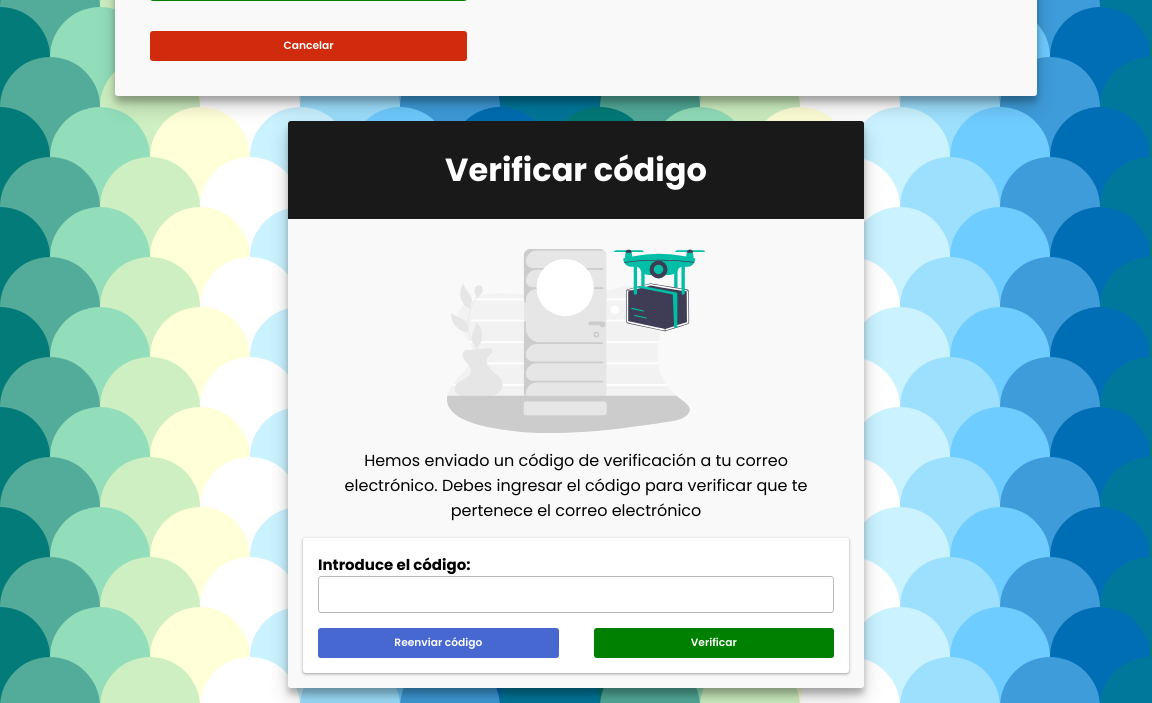
it: Add Account › Verification Account Not Account
(page scrolled)
Step 1. Type "123456" into the field named "code" → (576, 595), box [318,576,834,613]
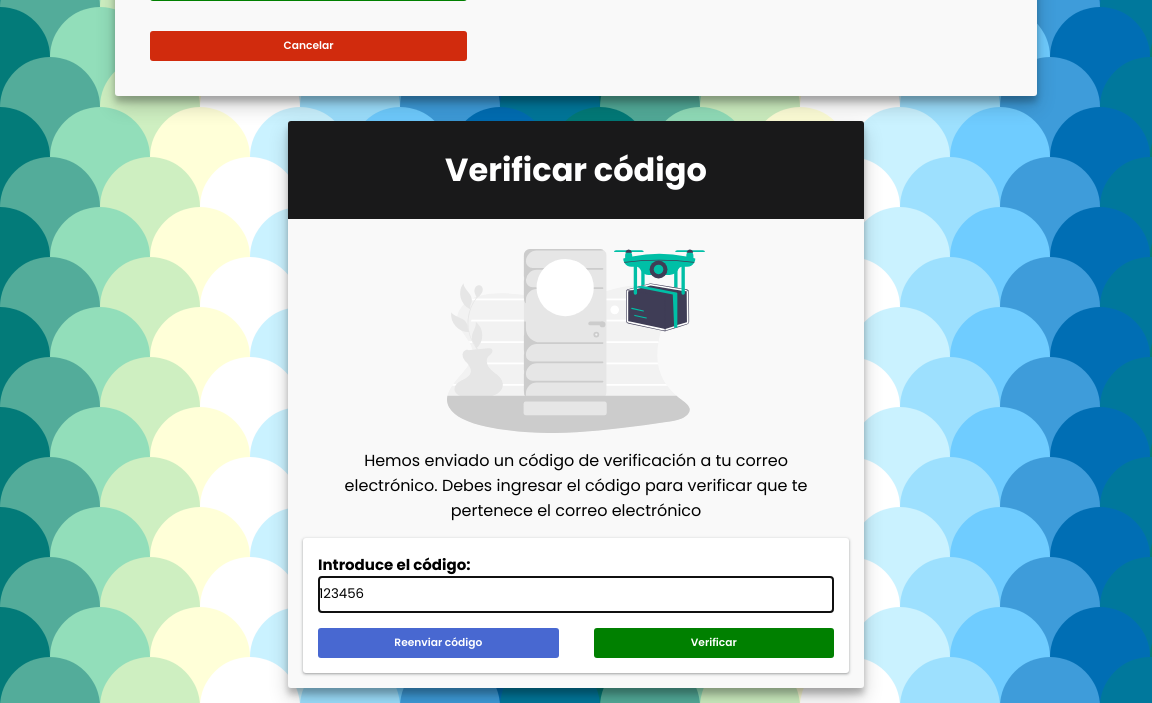
Step 2. Submit the form with class "signup-input-verification-container", box [288,121,864,688]
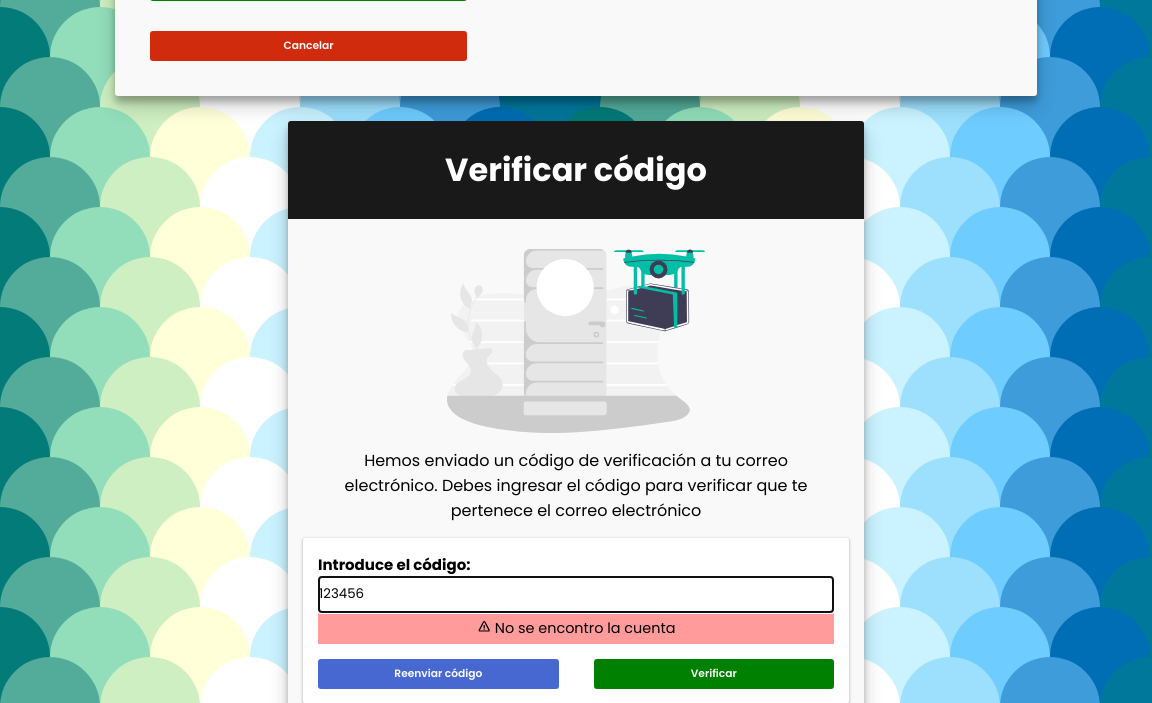
Now the text "No se encontro la cuenta" is shown, box [318,613,834,644]
